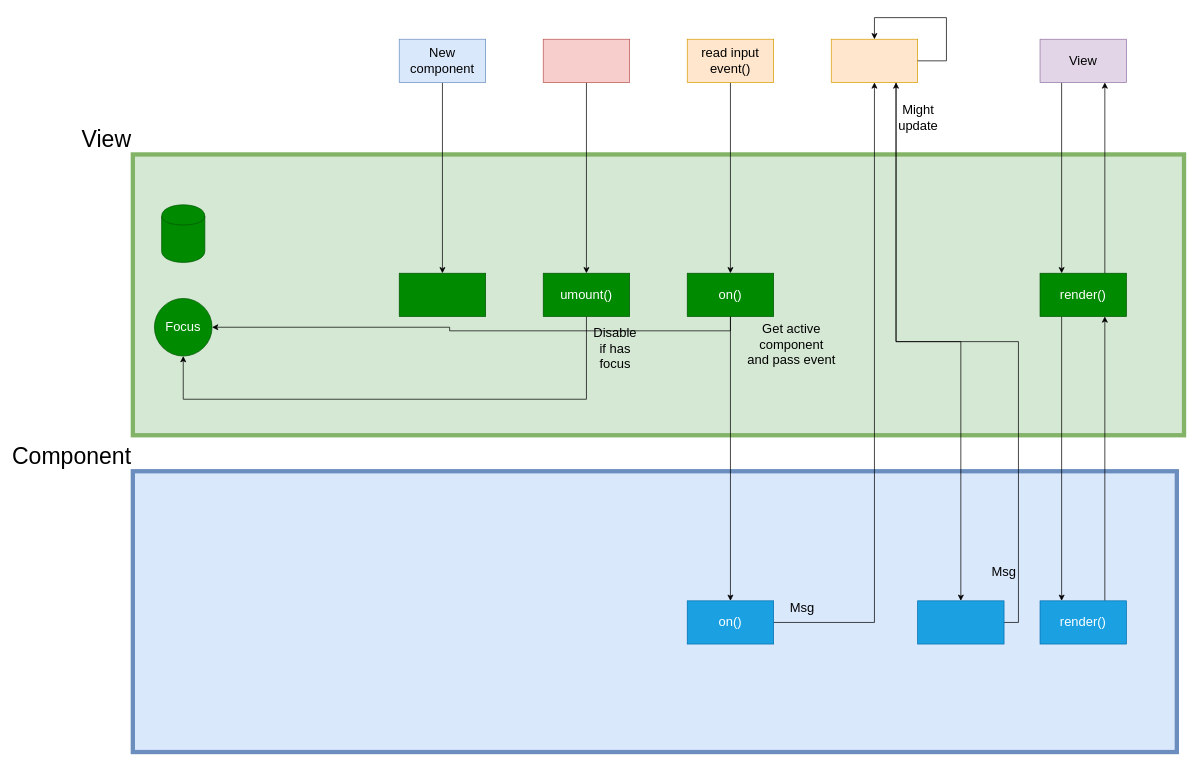
Image size: 1198x767. Some labels were removed from this diagram. Each missing label, with the centre of its shape:
"Focus stack" goes at point 183,233.
"mount()" goes at point 442,294.
"Umount" goes at point 586,60.
"Update" goes at point 874,60.
"update()" goes at point 960,622.
